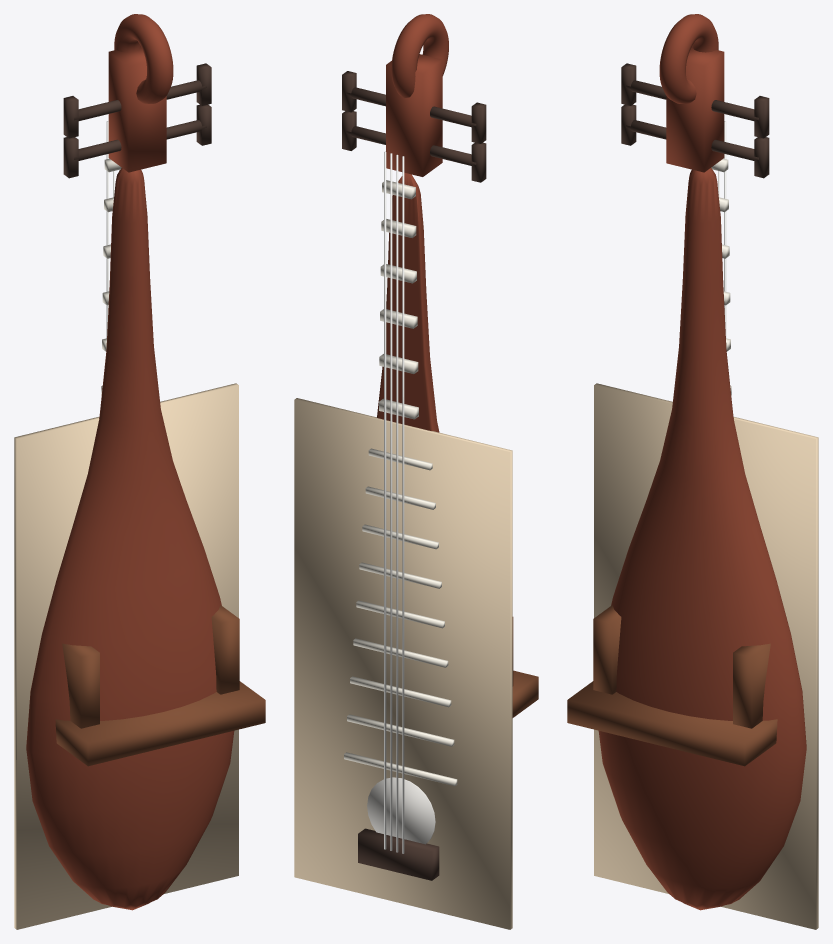
Rendered from dan_ty_ba.glb.
3 renders of one model, left to right at view 1: azimuth 30°, elevation 25°; view 2: azimuth 150°, elevation 25°; view 3: azimuth 330°, elevation 25°, orthographic. The views are drawn at different scales.
Visible parts, largest first — view 1: TyBa_Body; view 2: TyBa_Body; view 3: TyBa_Body.
Part boxes in pixels (x1,y1,x2,y2): TyBa_Body: (14,14,265,929); TyBa_Body: (294,14,538,929); TyBa_Body: (567,14,818,929).
Bounding box in the file's own units: 0.322 × 1.25 × 0.1513.
